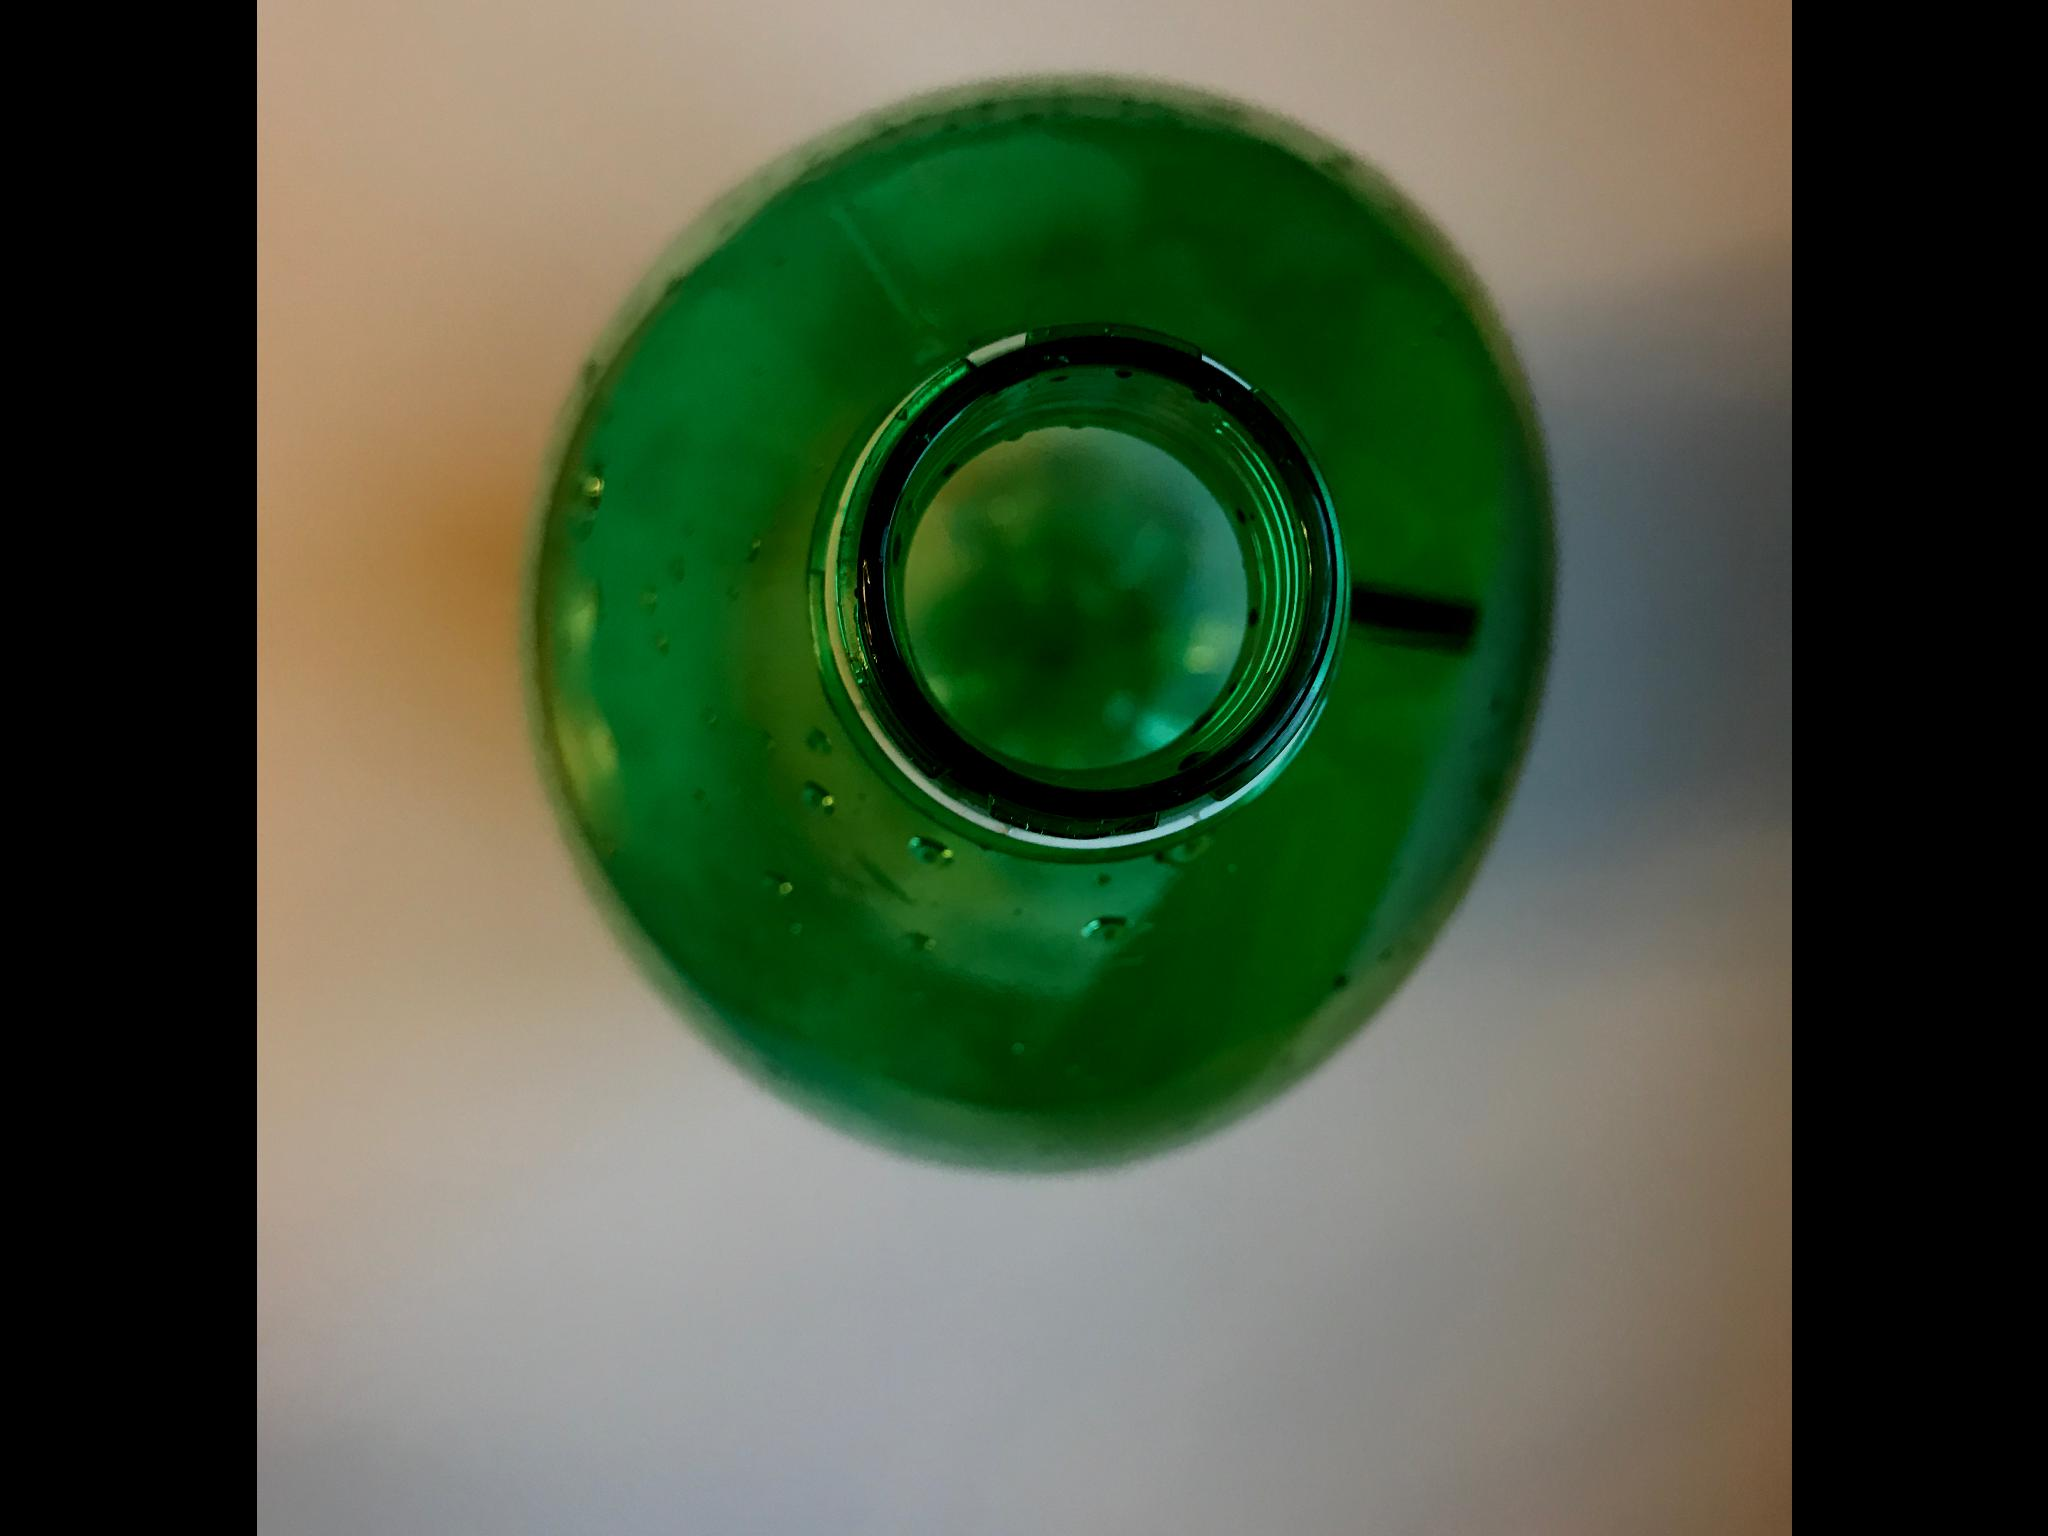Plastic: (485, 61, 1590, 1196)
